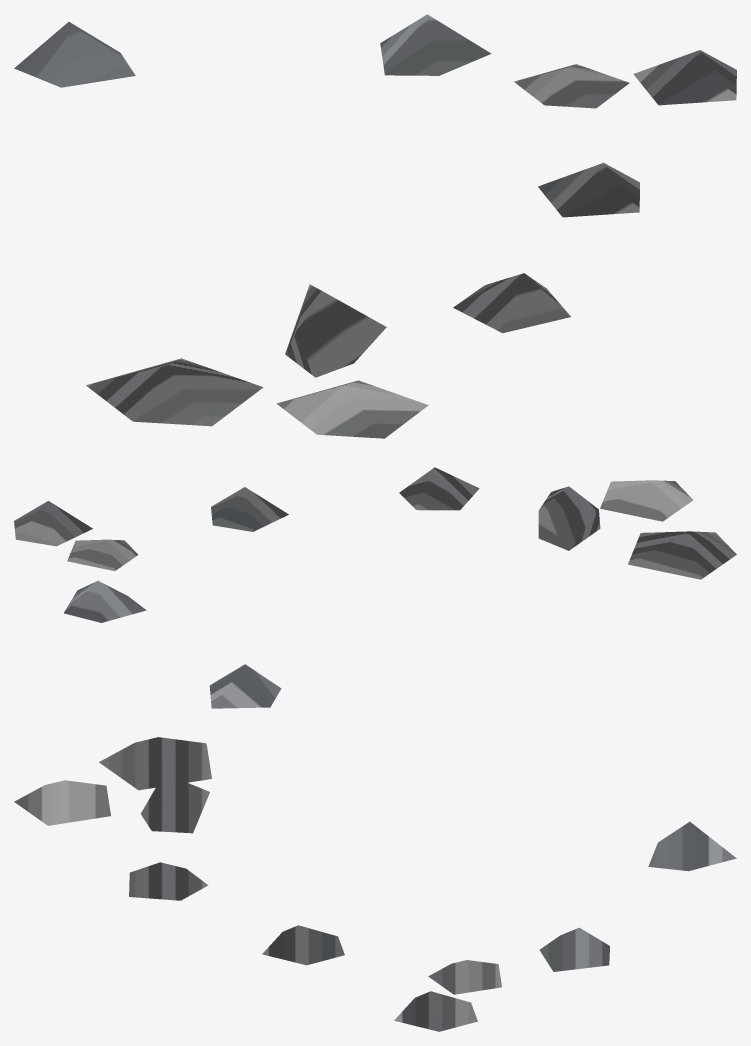
The model's file is rock_jfield2_hdtex.glb.
3 renders of one model, top to bottom at view 1: azimuth 30°, elevation 25°; view 2: azimuth 150°, elevation 25°; view 3: azimuth 270°, elevation 25°, orthographic. The views are drawn at different scales.
Parts seen in each view (by area): view 1: Rock_JField2; view 2: Rock_JField2; view 3: Rock_JField2.
Part boxes in pixels (x1,y1,x2,y2): Rock_JField2: (14, 14, 736, 438); Rock_JField2: (14, 467, 736, 708); Rock_JField2: (14, 737, 736, 1031).
Bounding box in the file's own units: 20.6 × 1.74 × 21.68.
Materials: 1 (1 with a texture image).
